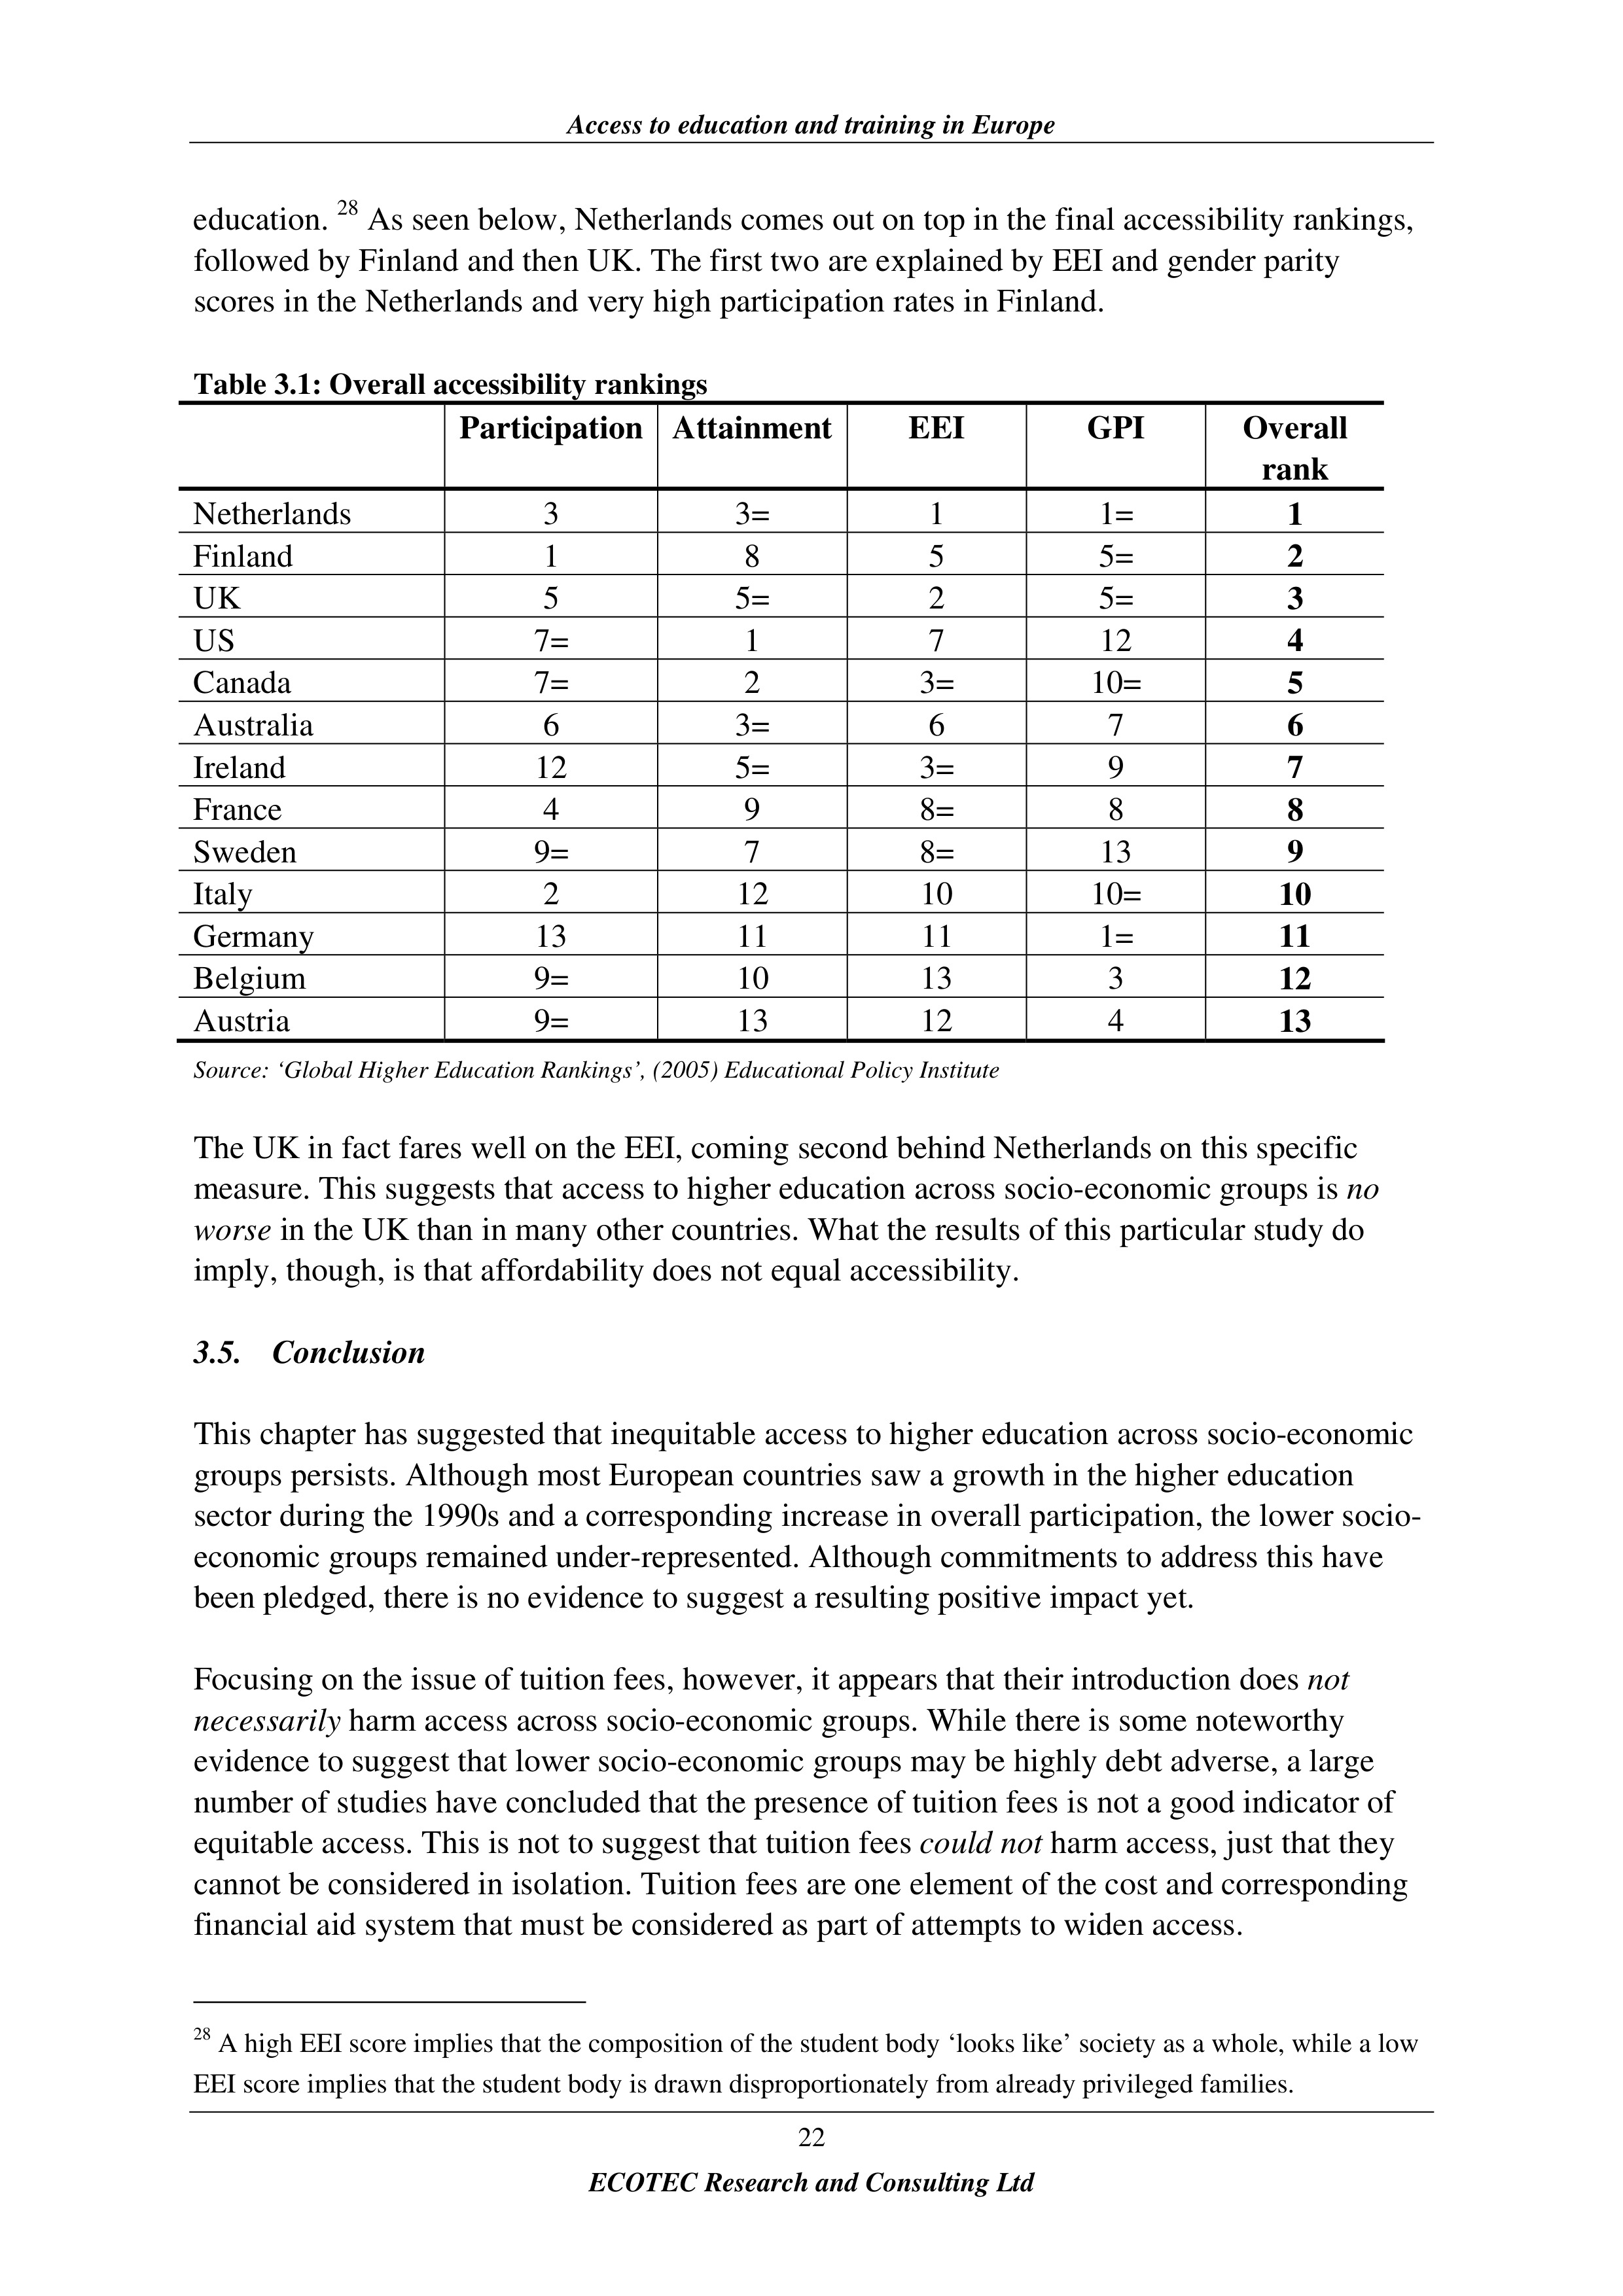table: (193, 404, 1349, 1043)
